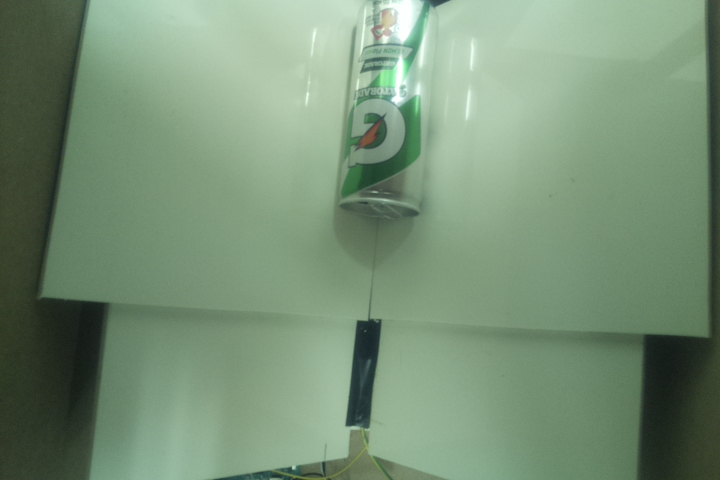can: (332, 1, 437, 225)
